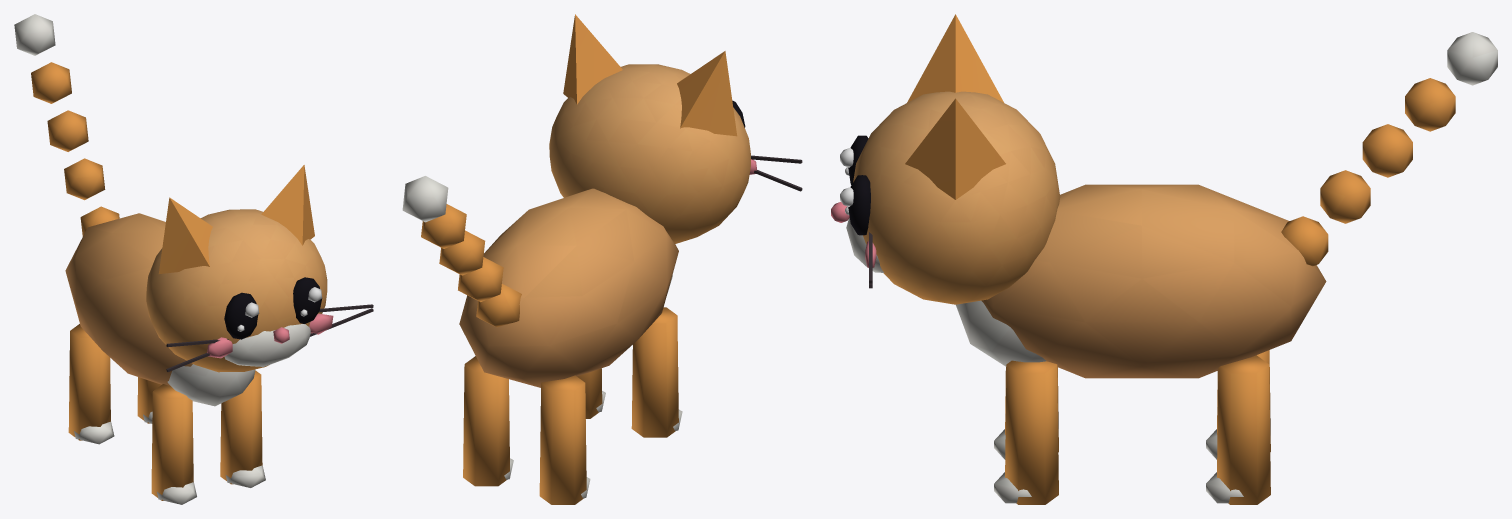
The model's file is cat.glb.
The picture shows the model from 3 angles, left to right: view 1: azimuth 30°, elevation 25°; view 2: azimuth 150°, elevation 25°; view 3: azimuth 270°, elevation 25°; orthographic projection. The views are drawn at different scales.
Visible parts, largest first — view 1: HeadMesh, Body, TailMesh, LegFLMesh, LegBLMesh, LegFRMesh, LegBRMesh; view 2: HeadMesh, Body, TailMesh, LegBLMesh, LegBRMesh, LegFLMesh, LegFRMesh; view 3: Body, HeadMesh, TailMesh, LegBRMesh, LegFRMesh.
Boxes of the visible parts, x1,y1,x2,y2 form: HeadMesh: (146,165,373,372); Body: (65,213,255,406); TailMesh: (14,14,119,236); LegFLMesh: (151,384,196,504); LegBLMesh: (68,324,114,444); LegFRMesh: (220,370,265,487); LegBRMesh: (137,377,161,423); HeadMesh: (549,14,802,243); Body: (459,188,678,387); TailMesh: (402,176,521,327); LegBLMesh: (539,375,590,504); LegBRMesh: (463,356,513,486); LegFLMesh: (631,307,682,437); LegFRMesh: (577,368,605,418); Body: (956,184,1326,378); HeadMesh: (831,14,1060,304); TailMesh: (1281,32,1497,266); LegBRMesh: (1206,355,1270,504); LegFRMesh: (994,360,1058,504).
Bounding box in the file's own units: 0.3593 × 0.5854 × 0.7867.
